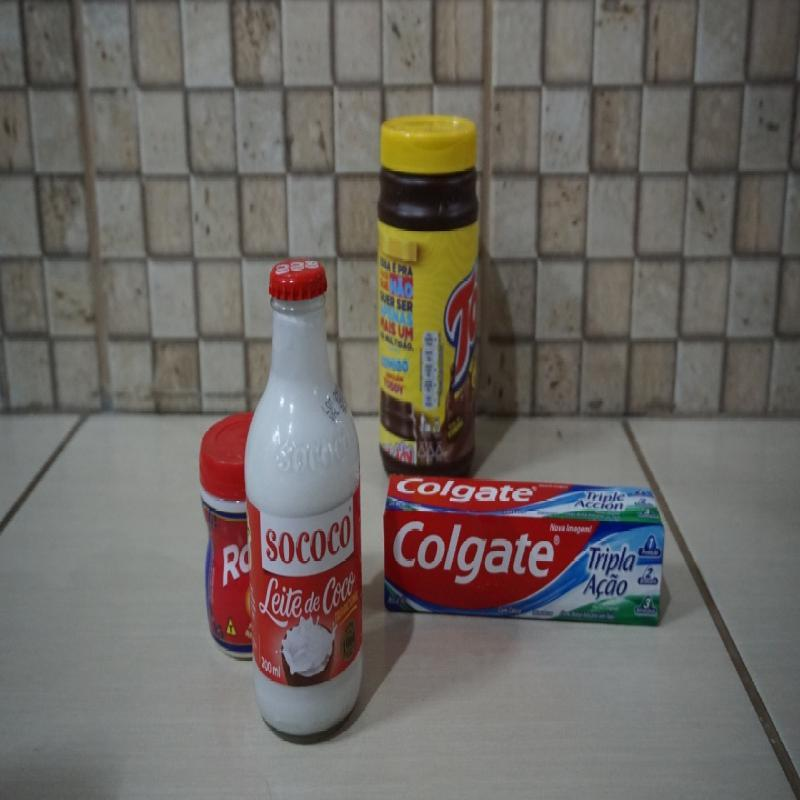Chocolate Powder: (379, 115, 479, 481)
Coconut Milk: (245, 256, 362, 738)
Toothpaste: (385, 477, 665, 625)
Yeast: (200, 414, 251, 660)
